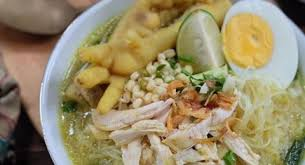soto: (36, 3, 302, 164)
